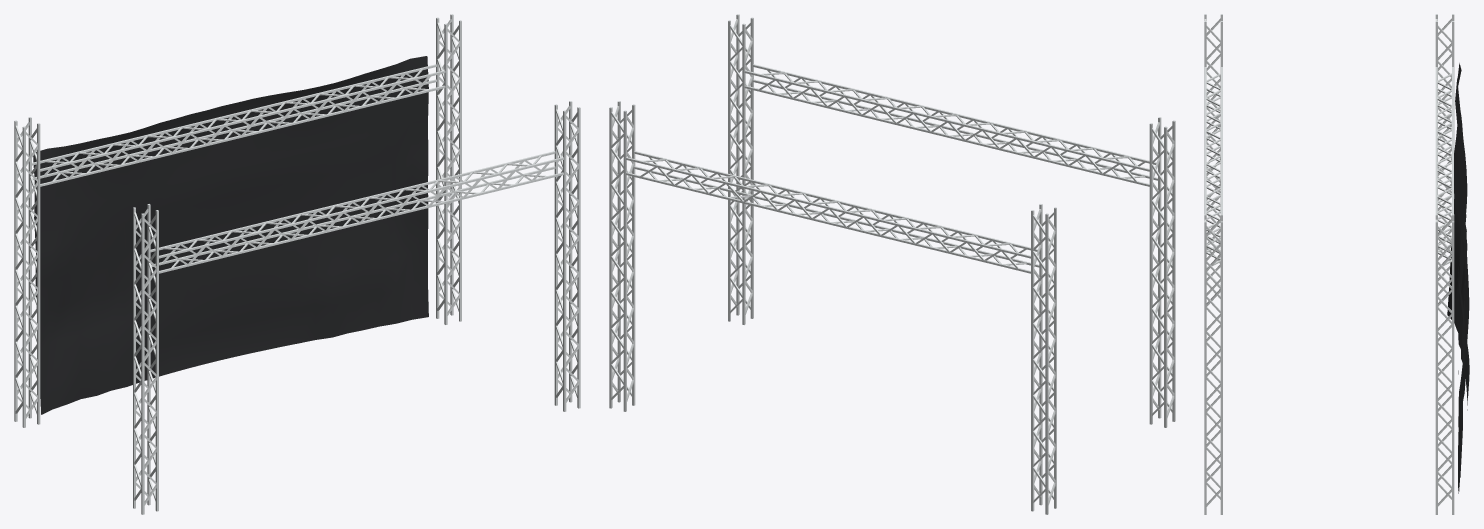
File: concert_stage.glb
3 views of the same model, side by side, from view 1: azimuth 30°, elevation 25°; view 2: azimuth 150°, elevation 25°; view 3: azimuth 270°, elevation 25° (orthographic). The views are drawn at different scales.
Parts seen in each view (by area): view 1: concert-stage.main.final; view 2: concert-stage.main.final; view 3: concert-stage.main.final.
Part boxes in pixels (<box>): concert-stage.main.final: <box>14,14,580,514</box>; concert-stage.main.final: <box>609,14,1175,514</box>; concert-stage.main.final: <box>1204,14,1469,514</box>.
Size of the model in its own units: 1885 by 1234 by 1014.
1 material, 1 textured.
